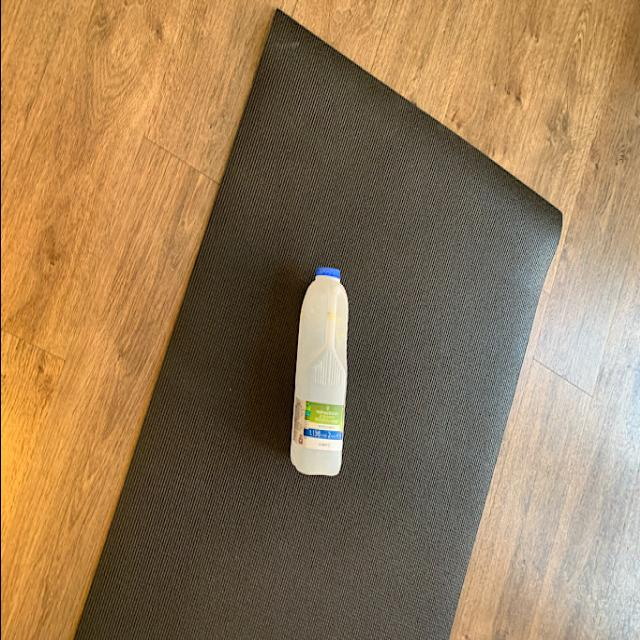litter: (286, 265, 346, 480)
